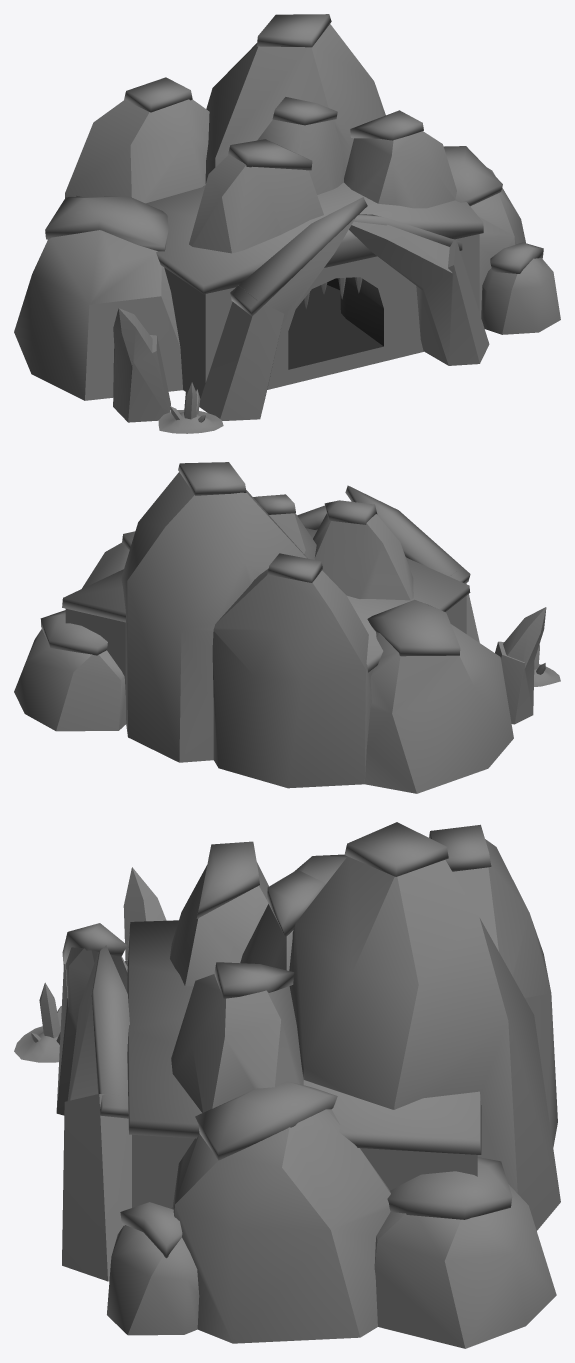
The model's file is cave_snow_A_blue.fbx.
3 renders of one model, top to bottom at view 1: azimuth 30°, elevation 25°; view 2: azimuth 150°, elevation 25°; view 3: azimuth 270°, elevation 25°, orthographic. The views are drawn at different scales.
Visible parts, largest first — view 1: cave_snow_A_blue; view 2: cave_snow_A_blue; view 3: cave_snow_A_blue.
Part boxes in pixels (x1,y1,x2,y2): cave_snow_A_blue: (14,14,560,433); cave_snow_A_blue: (14,462,560,793); cave_snow_A_blue: (14,822,560,1348).
Bounding box in the file's own units: 10.87 × 5.95 × 7.75.
